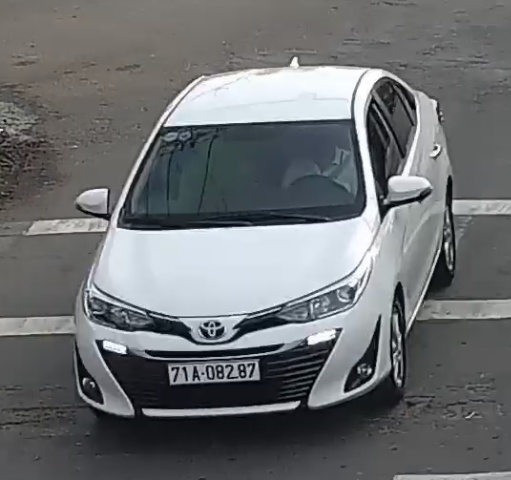vehicle plate: (163, 353, 265, 382)
